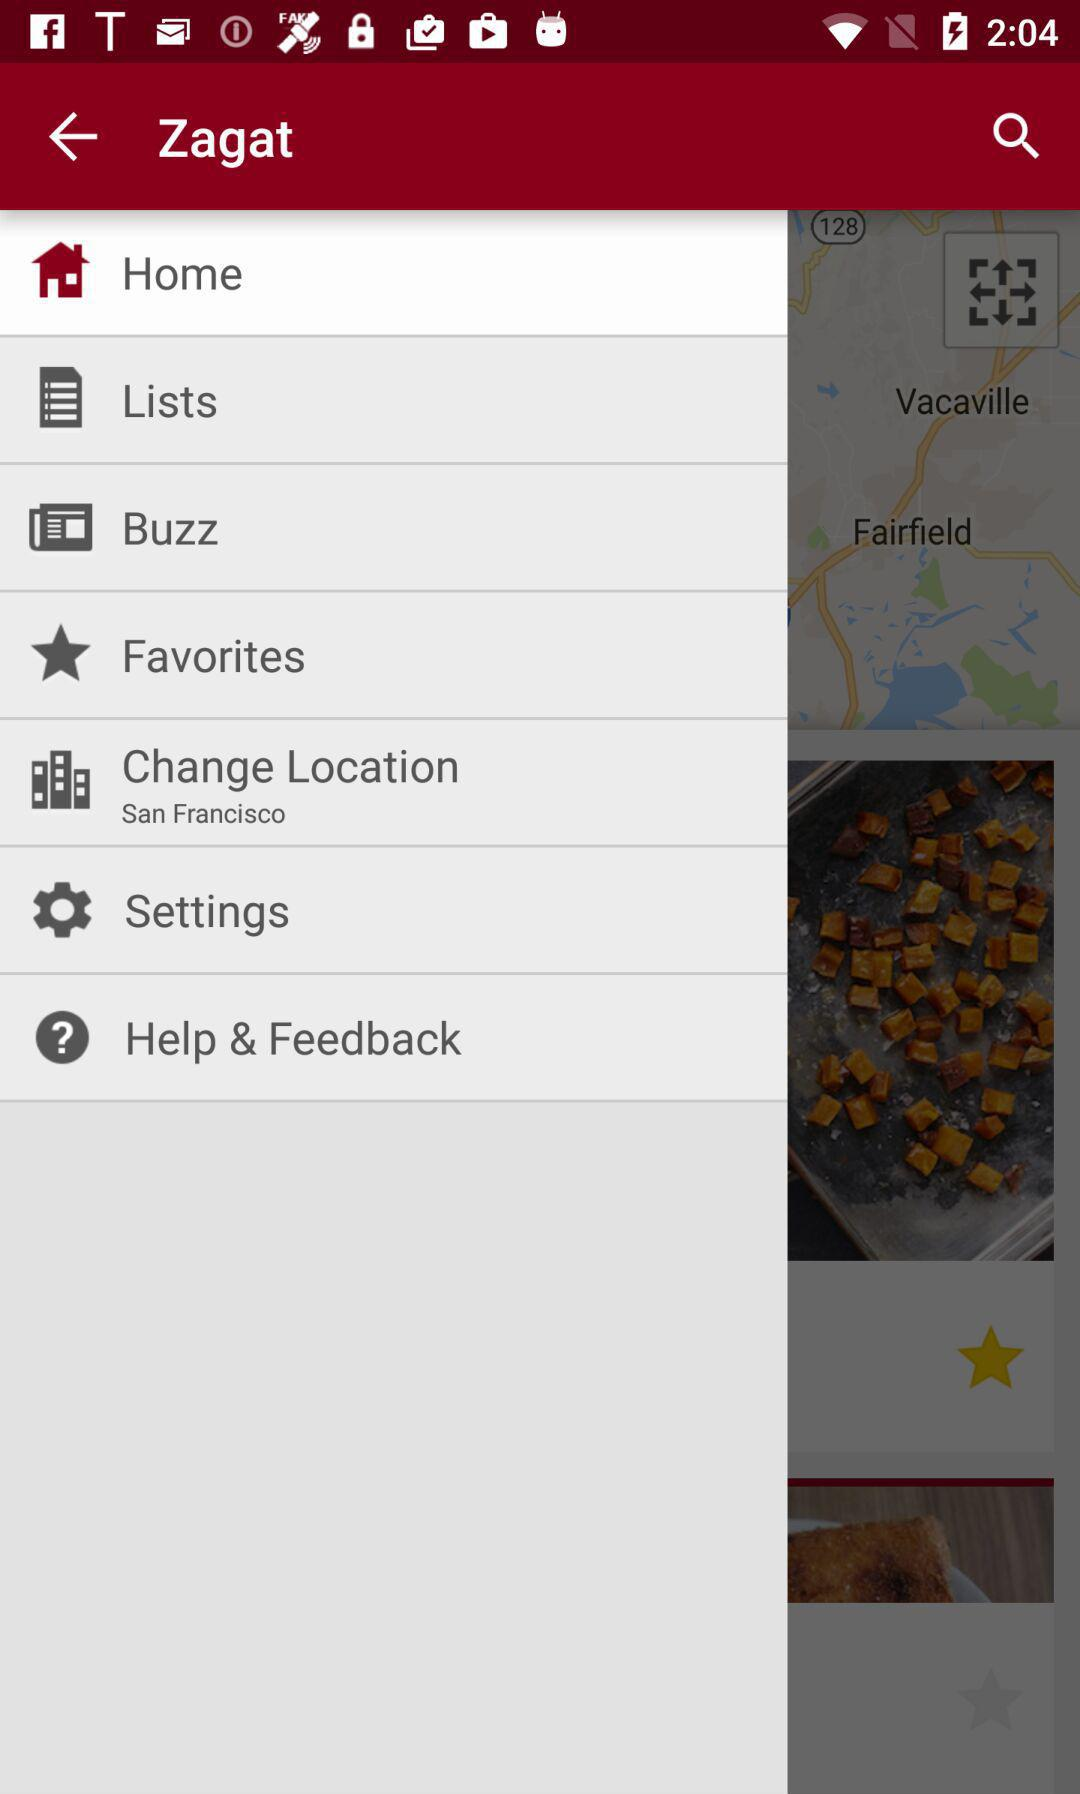Drawer: (1, 211, 789, 1794)
Icon: (29, 623, 92, 683), (31, 241, 92, 300), (33, 882, 94, 939), (29, 502, 95, 554), (35, 1008, 92, 1066), (38, 365, 85, 431), (47, 111, 100, 164), (992, 111, 1042, 161)
Image: (31, 750, 94, 811)
Text: (127, 1020, 462, 1066), (124, 747, 459, 793), (126, 893, 290, 938), (159, 118, 295, 170), (126, 638, 306, 674), (126, 256, 243, 292), (122, 802, 287, 825), (124, 384, 219, 420), (126, 513, 220, 547)
Toolbar: (1, 67, 1080, 210)
UpperTaskBar: (1, 1, 1080, 64)
